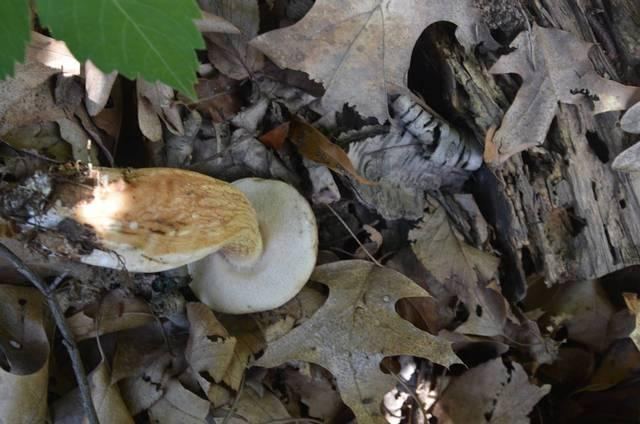Non-edible Mushroom: (186, 175, 319, 315)
